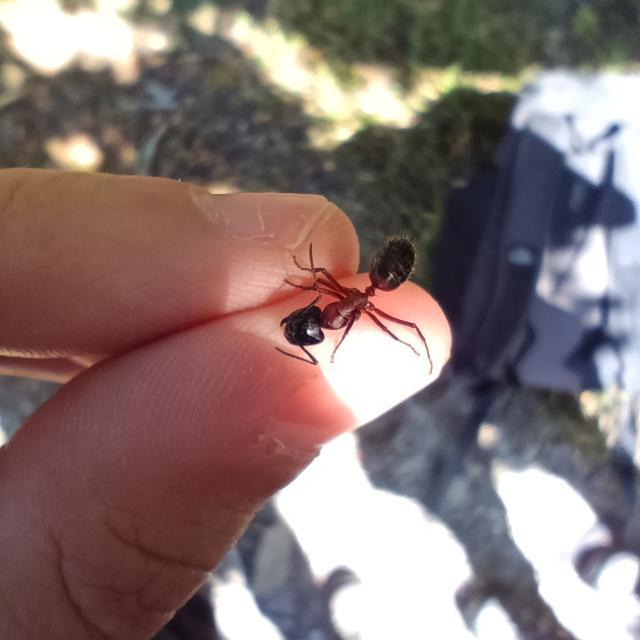Camponotus: (271, 225, 439, 372)
